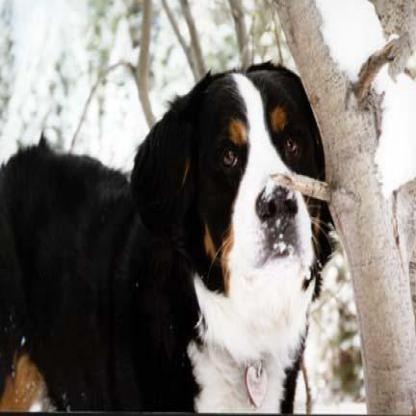Bernese_mountain_dog: (0, 58, 328, 413)
